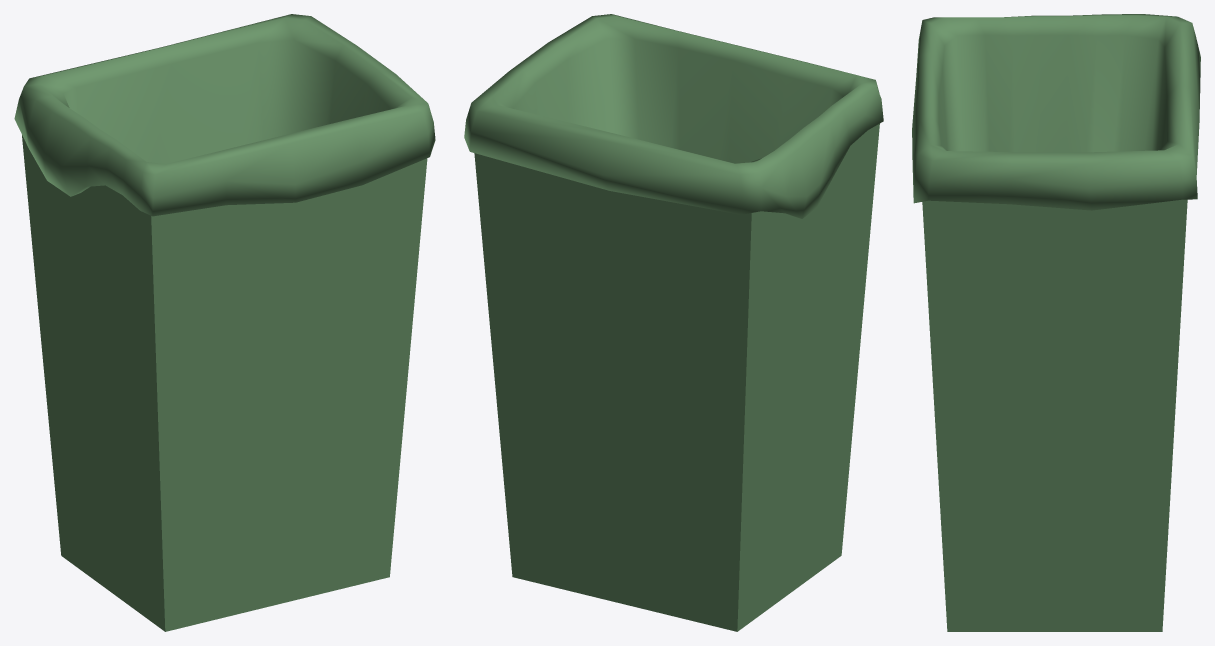
The model's file is SM_TrashSmall.fbx.
The picture shows the model from 3 angles, left to right: view 1: azimuth 30°, elevation 25°; view 2: azimuth 150°, elevation 25°; view 3: azimuth 270°, elevation 25°; orthographic projection. The views are drawn at different scales.
Parts seen in each view (by area): view 1: SM_TrashSmall; view 2: SM_TrashSmall; view 3: SM_TrashSmall.
Part boxes in pixels (x1=…): SM_TrashSmall: x1=14, y1=14, x2=435, y2=631; SM_TrashSmall: x1=464, y1=14, x2=883, y2=631; SM_TrashSmall: x1=912, y1=14, x2=1200, y2=631.
Size of the model in its own units: 50.17 by 73.41 by 39.1.
